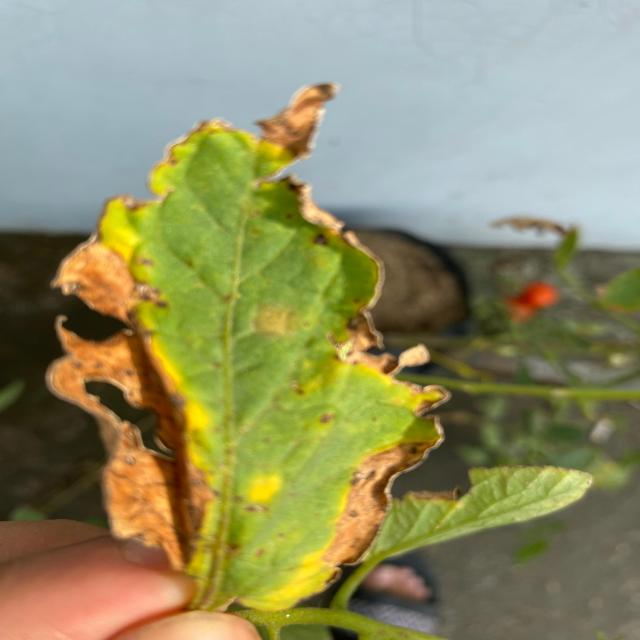Tomato_Late_Blight: (44, 56, 462, 615)
